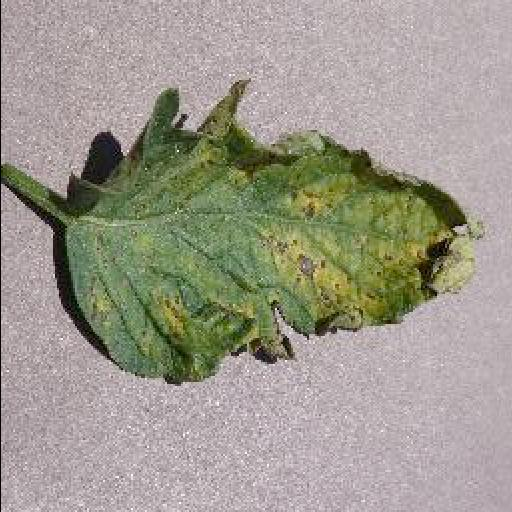disease_tomato: (62, 80, 486, 386)
